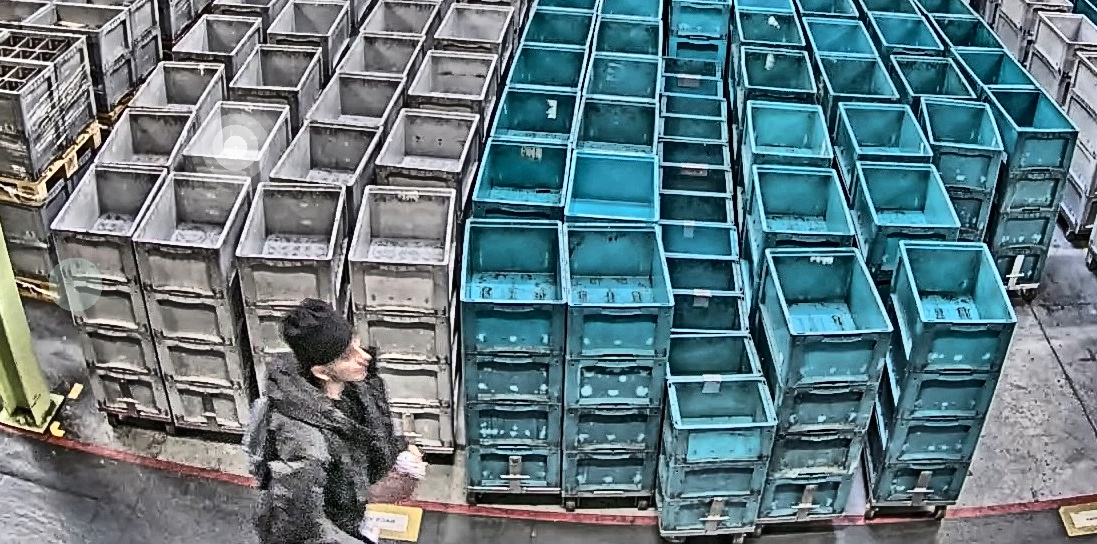4G: (48, 161, 174, 426), (132, 171, 256, 435), (346, 183, 457, 453), (234, 181, 351, 407)
B4: (863, 239, 1019, 503), (758, 246, 894, 523), (561, 221, 678, 500), (458, 219, 569, 492), (920, 96, 1005, 241)
B8: (653, 333, 779, 533)
